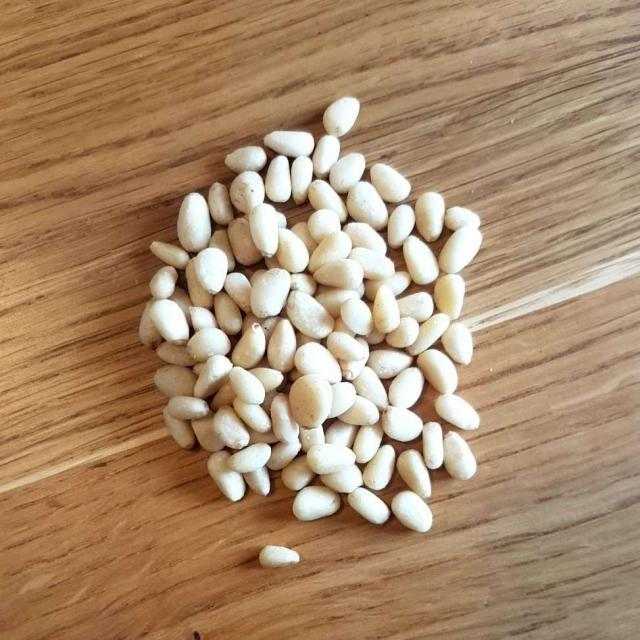nuts: (145, 112, 472, 525)
